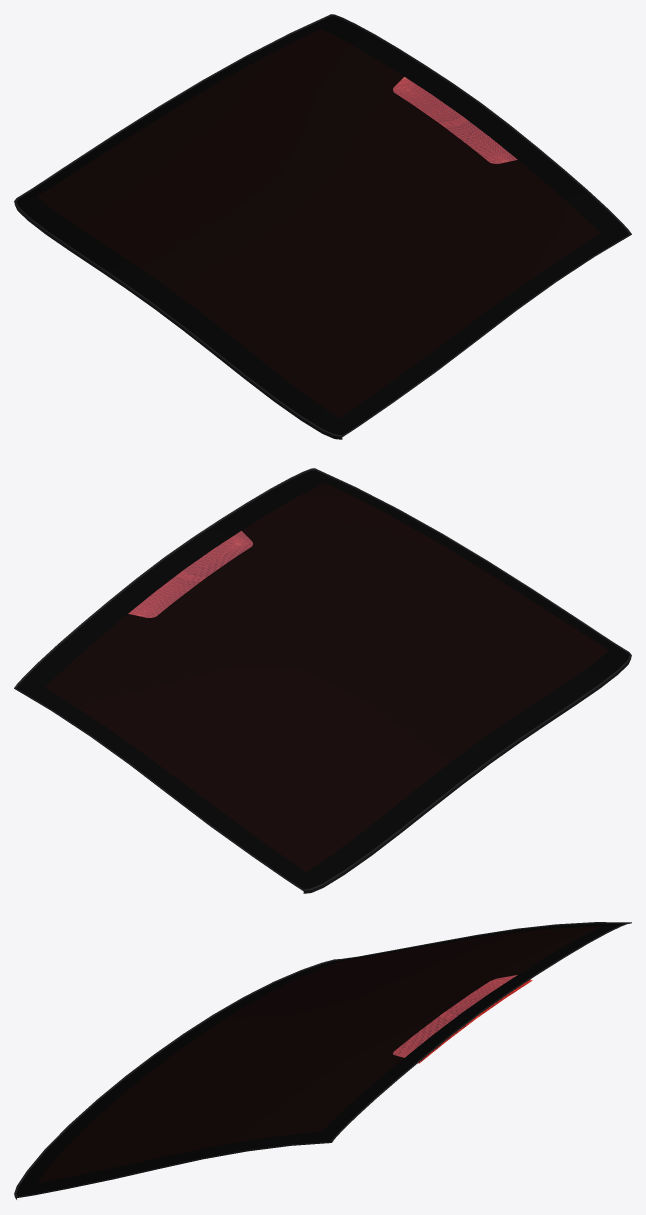
3 renders of one model, top to bottom at view 1: azimuth 30°, elevation 25°; view 2: azimuth 150°, elevation 25°; view 3: azimuth 330°, elevation 25°, orthographic.
Parts seen in each view (by area): view 1: X8163_365C_C_X8163_365C_C_3_DTaSI, X8163_365C_C_X8163_365C_C_2_DTaSI, X8163_365C_C_1_D_X8163_365C_C, X8163_365C_C_X8163_365C_C_5_N, X8163_365C_C_X8163_365C_C_4_DTaSI; view 2: X8163_365C_C_X8163_365C_C_3_DTaSI, X8163_365C_C_X8163_365C_C_2_DTaSI, X8163_365C_C_1_D_X8163_365C_C, X8163_365C_C_X8163_365C_C_5_N, X8163_365C_C_X8163_365C_C_4_DTaSI; view 3: X8163_365C_C_X8163_365C_C_3_DTaSI, X8163_365C_C_X8163_365C_C_2_DTaSI, X8163_365C_C_1_D_X8163_365C_C, X8163_365C_C_X8163_365C_C_5_N, X8163_365C_C_X8163_365C_C_4_DTaSI.
Part boxes in pixels (bbox=[...]): X8163_365C_C_X8163_365C_C_3_DTaSI: bbox=[37, 29, 600, 417]; X8163_365C_C_X8163_365C_C_2_DTaSI: bbox=[16, 16, 629, 435]; X8163_365C_C_1_D_X8163_365C_C: bbox=[14, 14, 631, 439]; X8163_365C_C_X8163_365C_C_5_N: bbox=[393, 77, 517, 163]; X8163_365C_C_X8163_365C_C_4_DTaSI: bbox=[393, 77, 517, 163]; X8163_365C_C_X8163_365C_C_3_DTaSI: bbox=[45, 483, 608, 871]; X8163_365C_C_X8163_365C_C_2_DTaSI: bbox=[16, 470, 629, 889]; X8163_365C_C_1_D_X8163_365C_C: bbox=[14, 468, 631, 893]; X8163_365C_C_X8163_365C_C_5_N: bbox=[128, 531, 252, 617]; X8163_365C_C_X8163_365C_C_4_DTaSI: bbox=[128, 531, 252, 617]; X8163_365C_C_X8163_365C_C_3_DTaSI: bbox=[37, 927, 600, 1183]; X8163_365C_C_X8163_365C_C_2_DTaSI: bbox=[16, 923, 624, 1196]; X8163_365C_C_1_D_X8163_365C_C: bbox=[14, 922, 631, 1199]; X8163_365C_C_X8163_365C_C_5_N: bbox=[393, 975, 532, 1063]; X8163_365C_C_X8163_365C_C_4_DTaSI: bbox=[393, 975, 516, 1057].
Bounding box in the file's own units: 85.14 × 35.74 × 147.
